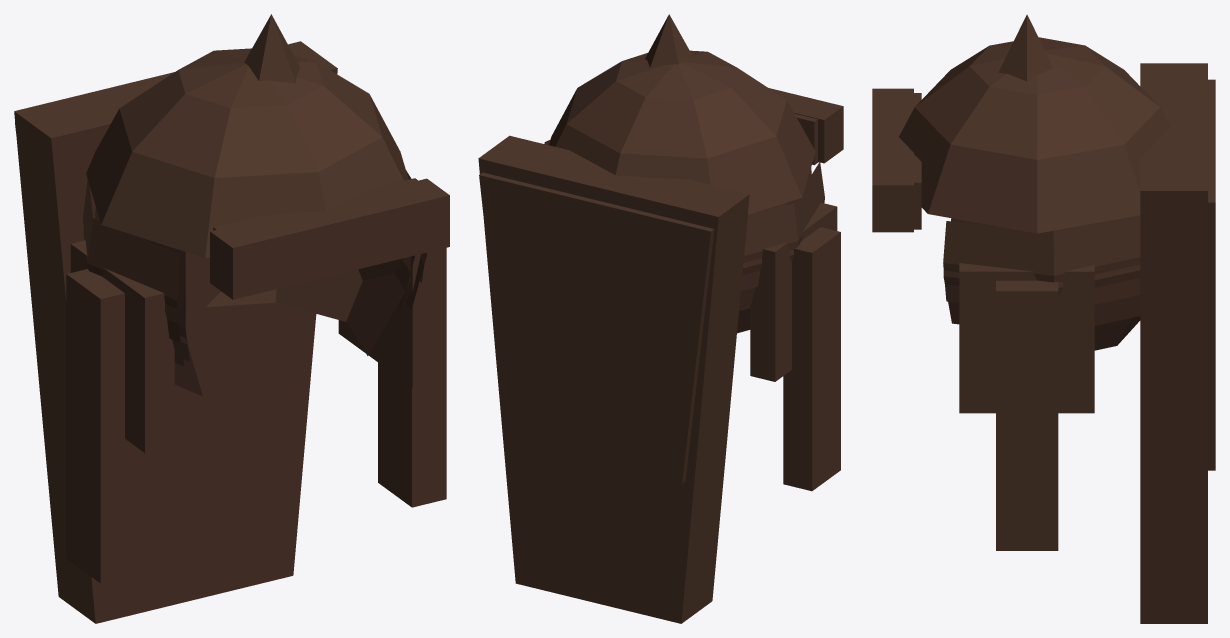
Rendered from NPC_Hair.obj.
3 renders of one model, left to right at view 1: azimuth 30°, elevation 25°; view 2: azimuth 150°, elevation 25°; view 3: azimuth 270°, elevation 25°, orthographic. The views are drawn at different scales.
Parts seen in each view (by area): view 1: NPC_Hair_Long_Female, NPC_Hair_Short_Male, NPC_Hair_Short_Female, NPC_Hair_Long_Male; view 2: NPC_Hair_Long_Female, NPC_Hair_Long_Male, NPC_Hair_Short_Male, NPC_Hair_Short_Female; view 3: NPC_Hair_Short_Male, NPC_Hair_Long_Female, NPC_Hair_Short_Female, NPC_Hair_Long_Male.
Part boxes in pixels (x1,y1,x2,y2): NPC_Hair_Long_Female: (14, 41, 446, 623); NPC_Hair_Short_Male: (83, 14, 449, 342); NPC_Hair_Short_Female: (70, 178, 442, 452); NPC_Hair_Long_Male: (15, 122, 426, 366); NPC_Hair_Long_Female: (478, 135, 840, 623); NPC_Hair_Long_Male: (479, 140, 793, 484); NPC_Hair_Short_Male: (549, 14, 843, 291); NPC_Hair_Short_Female: (737, 114, 837, 381); NPC_Hair_Short_Male: (872, 14, 1170, 304); NPC_Hair_Long_Female: (951, 63, 1207, 623); NPC_Hair_Short_Female: (914, 93, 1140, 413); NPC_Hair_Long_Male: (943, 79, 1215, 470).
Size of the model in its own units: 0.7 by 1.21 by 0.6594.
